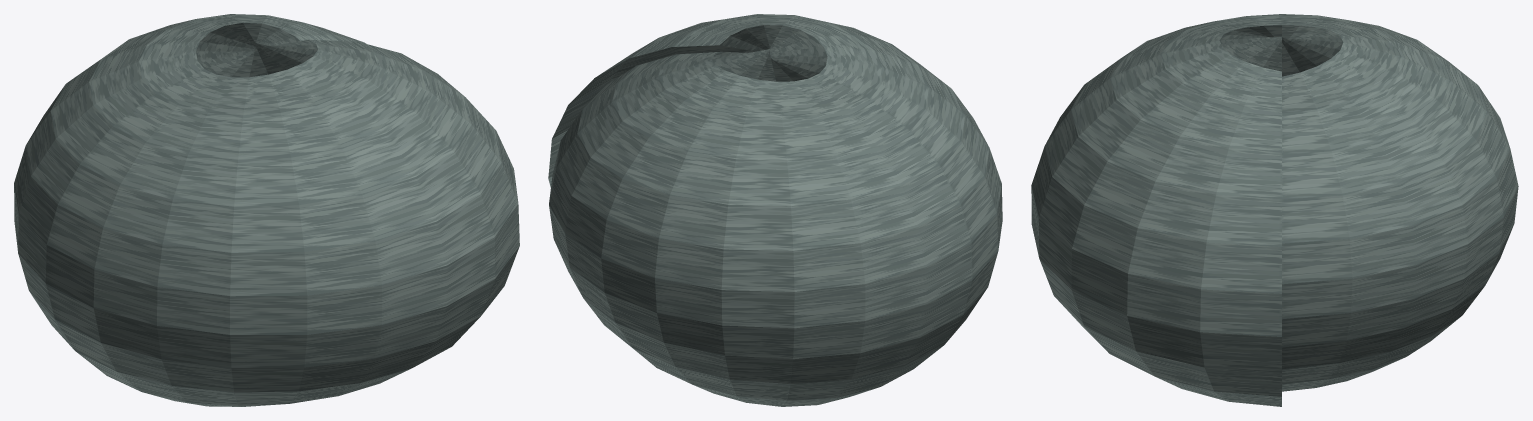
The model's file is rock_pebble.glb.
3 views of the same model, side by side, from view 1: azimuth 30°, elevation 25°; view 2: azimuth 150°, elevation 25°; view 3: azimuth 270°, elevation 25° (orthographic). The views are drawn at different scales.
Parts seen in each view (by area): view 1: rock_pebble; view 2: rock_pebble; view 3: rock_pebble.
Part boxes in pixels (x1=…): rock_pebble: x1=14, y1=14, x2=519, y2=406; rock_pebble: x1=548, y1=14, x2=1002, y2=406; rock_pebble: x1=1031, y1=14, x2=1518, y2=406.
Size of the model in its own units: 1.02 by 0.7603 by 0.9837.
Materials: 1 (1 with a texture image).
